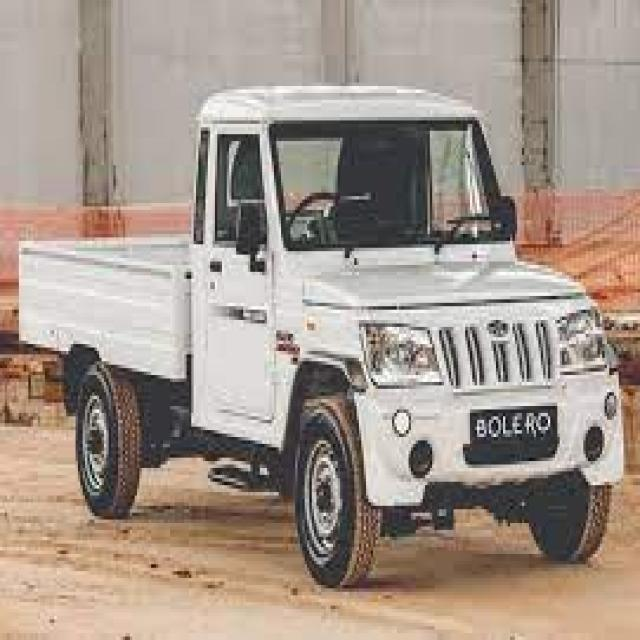Pickup Trucks: (19, 86, 623, 592)
